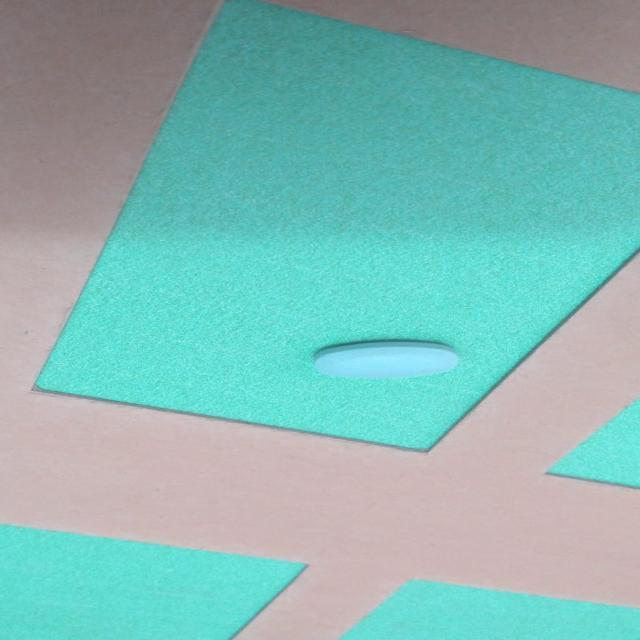pill: (307, 334, 464, 384)
